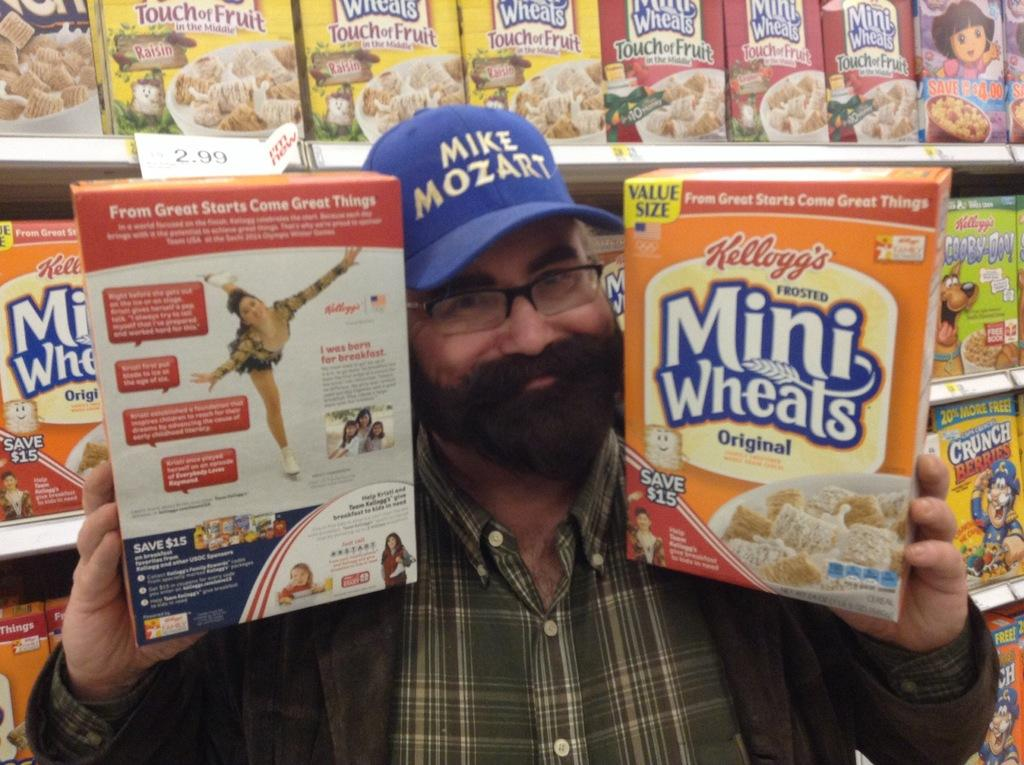Hat: (360, 101, 624, 290)
